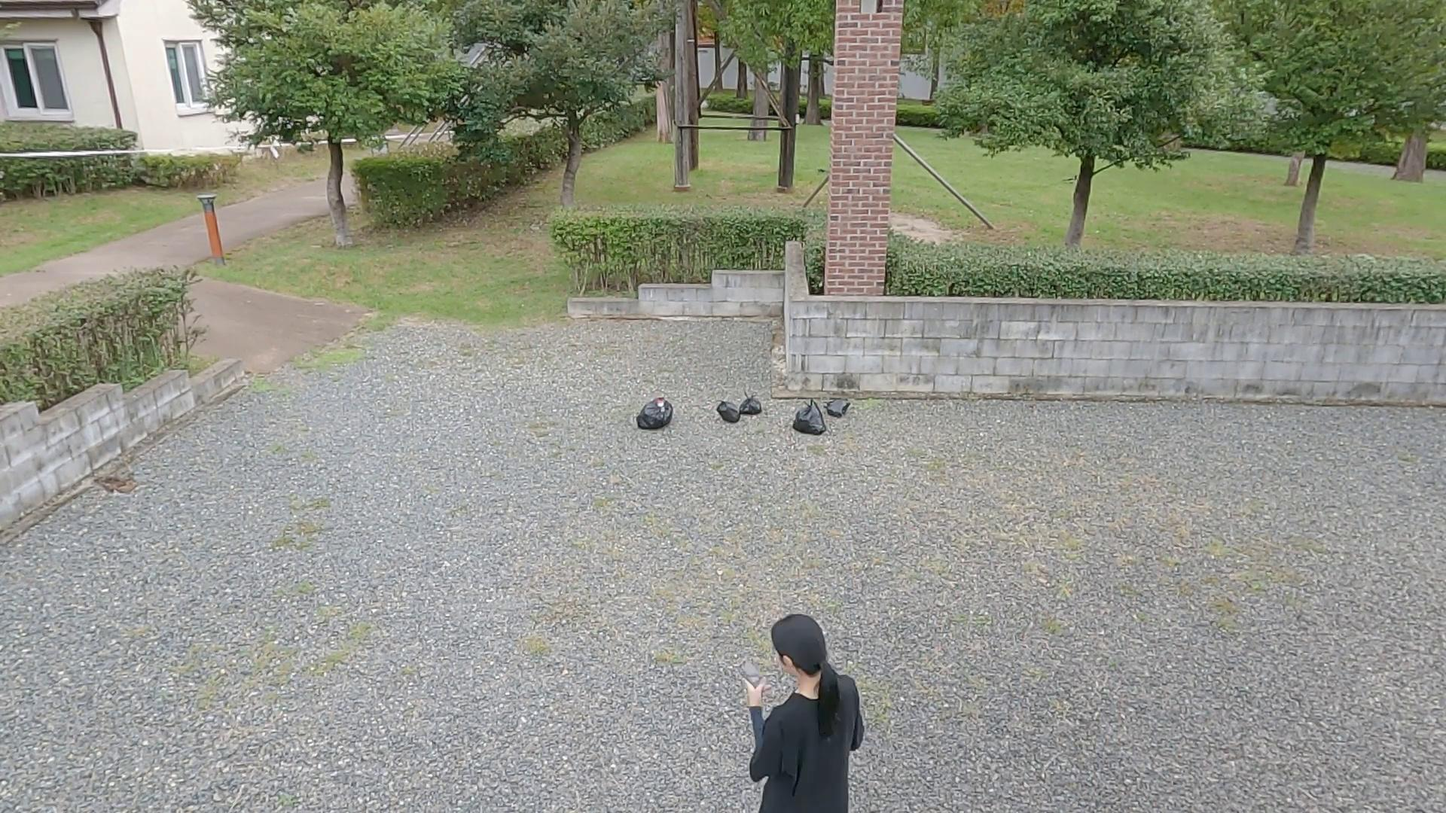person: (740, 607, 867, 813)
trash: (791, 398, 827, 436), (636, 396, 673, 432), (715, 398, 741, 425), (737, 390, 763, 417), (821, 396, 852, 418)
